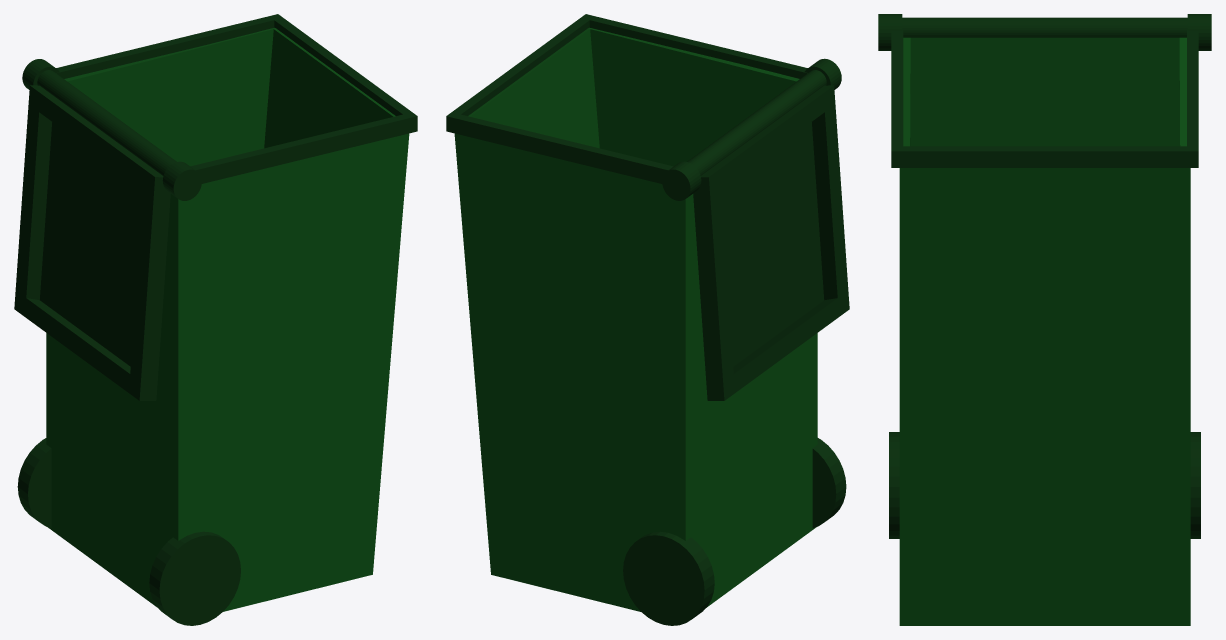
File: pikitup_bin.gltf
3 views of the same model, side by side, from view 1: azimuth 30°, elevation 25°; view 2: azimuth 150°, elevation 25°; view 3: azimuth 270°, elevation 25° (orthographic). The views are drawn at different scales.
Parts seen in each view (by area): view 1: Cube, Cube.002, Cube.001, Cylinder.002, Cylinder, Cylinder.001, Cylinder.003, Cylinder.004; view 2: Cube, Cube.002, Cube.001, Cylinder.001, Cylinder, Cylinder.002, Cylinder.004, Cylinder.003; view 3: Cube, Cube.001, Cylinder, Cylinder.001, Cylinder.002, Cylinder.003, Cylinder.004.
Part boxes in pixels (x1,y1,x2,y2): Cube: [46, 27, 409, 611]; Cube.002: [14, 85, 170, 400]; Cube.001: [56, 14, 417, 183]; Cylinder.002: [149, 531, 240, 625]; Cylinder: [37, 70, 176, 175]; Cylinder.001: [17, 438, 51, 528]; Cylinder.003: [162, 161, 201, 200]; Cylinder.004: [22, 59, 59, 89]; Cube: [454, 27, 817, 611]; Cube.002: [693, 85, 849, 400]; Cube.001: [446, 14, 807, 183]; Cylinder.001: [623, 531, 714, 625]; Cylinder: [687, 70, 826, 175]; Cylinder.002: [812, 438, 846, 528]; Cylinder.004: [662, 161, 701, 200]; Cylinder.003: [804, 58, 841, 89]; Cube: [899, 37, 1190, 625]; Cube.001: [891, 28, 1198, 167]; Cylinder: [902, 17, 1187, 37]; Cylinder.001: [1190, 432, 1200, 538]; Cylinder.002: [889, 432, 899, 538]; Cylinder.003: [878, 14, 902, 50]; Cylinder.004: [1187, 14, 1211, 50].
Bounding box in the file's own units: 4.82 × 7.87 × 4.66.
